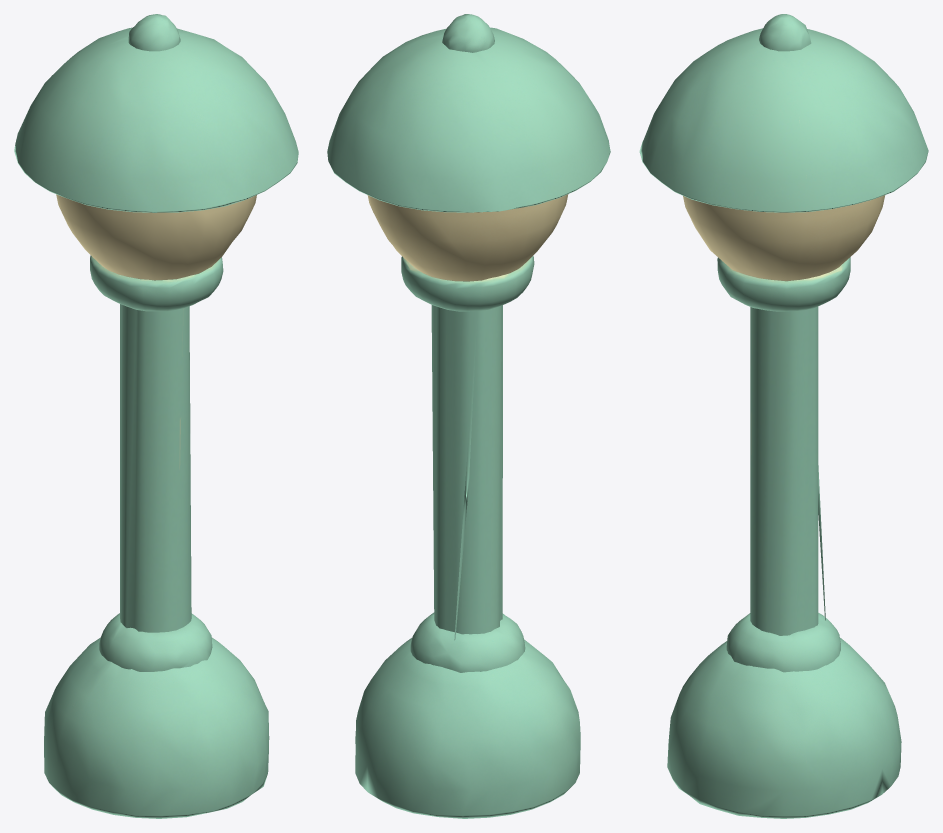
Rendered from lamp.glb.
3 views of the same model, side by side, from view 1: azimuth 30°, elevation 25°; view 2: azimuth 150°, elevation 25°; view 3: azimuth 270°, elevation 25° (orthographic).
Bounding box in the file's own units: 0.3218 × 0.9507 × 0.3296.
1 material, 1 textured.
